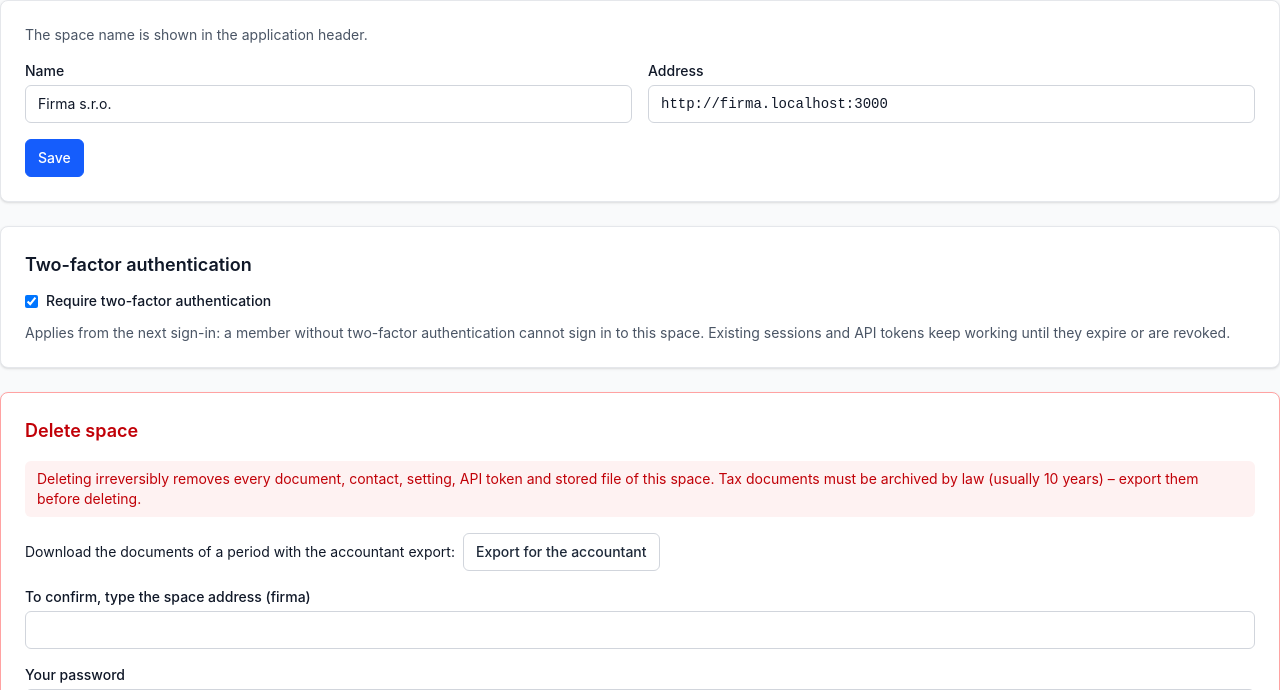
it: Settings → Space: require two-factor authentication › maps a wrong code and keeps the confirmation open
Click the checkbox with test id "require-mfa-toggle" at (32, 301), box [25,294,38,308]
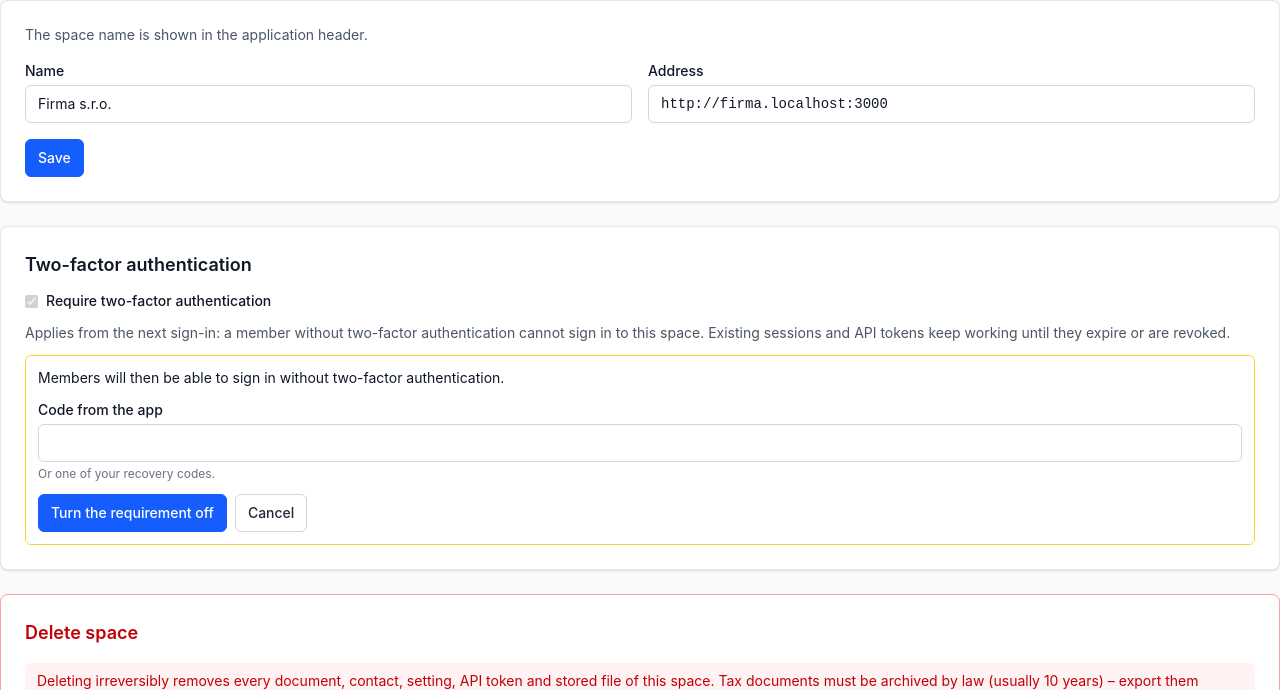
Type "000000" into the field with test id "require-mfa-code" at (640, 443), box [38,424,1242,462]
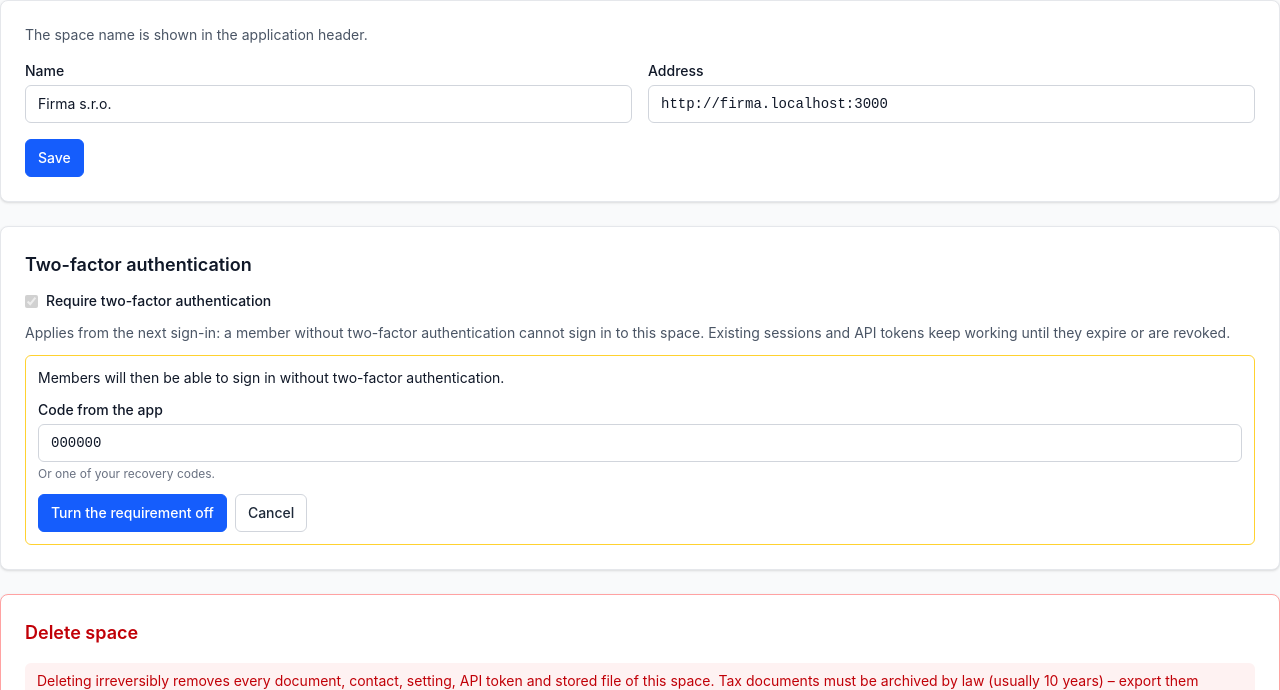
Submit the form with test id "require-mfa-confirm", box [25,355,1255,545]
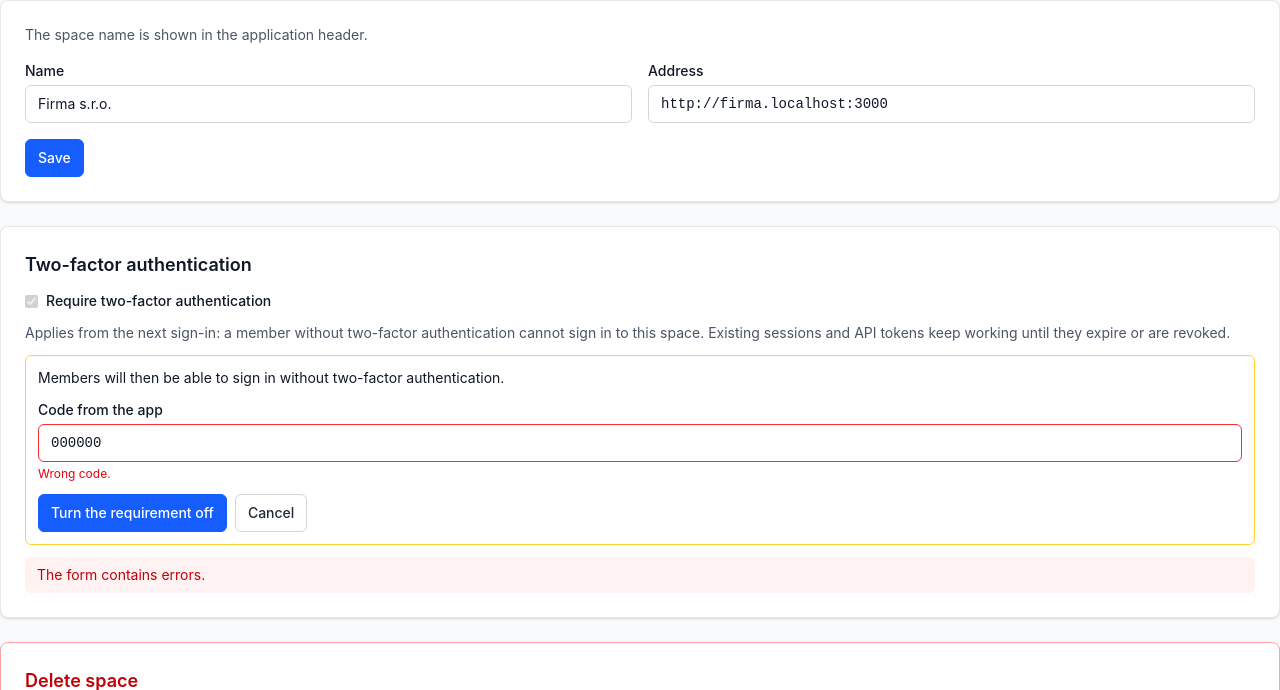
Expected: the checkbox with test id "require-mfa-toggle" is checked, [25,294,38,308]
Now the form with test id "require-mfa-confirm" is shown, box [25,355,1255,545]
Now the text with id "require-mfa-code-error" reads "Wrong code.", box [38,466,111,481]
